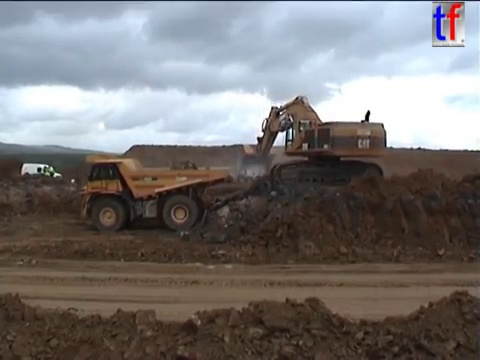excavator: (233, 92, 389, 192)
truck: (68, 151, 229, 234)
worker: (46, 162, 55, 180), (41, 163, 47, 178)
